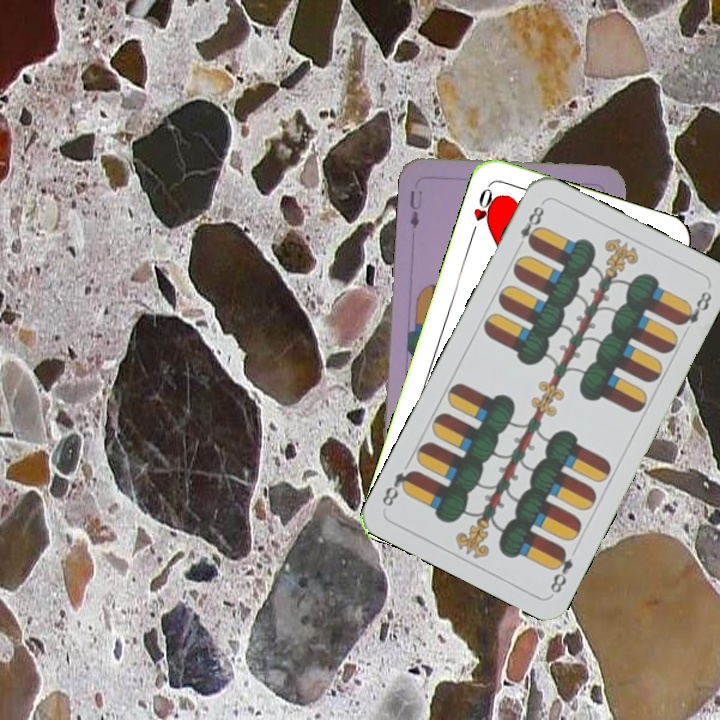E8: (512, 202, 547, 253), (545, 543, 576, 596)
EU: (405, 186, 425, 231)
HO: (467, 182, 501, 239)
